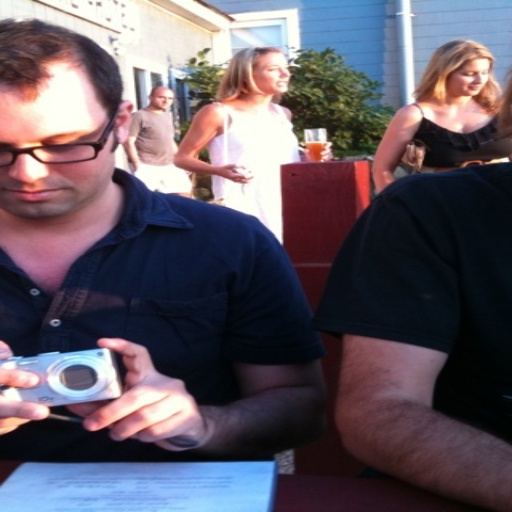hand: (83, 347, 206, 451), (0, 339, 51, 437), (299, 137, 336, 162), (214, 160, 254, 182), (184, 169, 198, 178)
